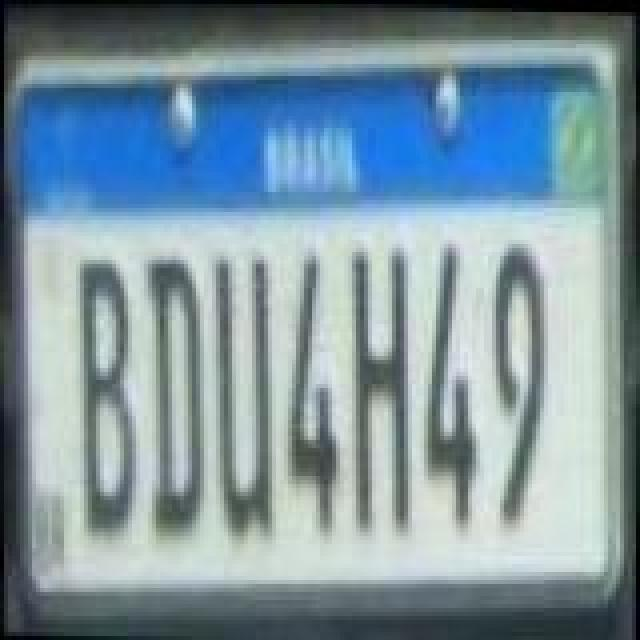4: (416, 240, 484, 536), (276, 246, 344, 530)
9: (480, 240, 556, 532)
B: (76, 252, 144, 536)
D: (138, 252, 210, 540)
H: (344, 242, 420, 538)
U: (210, 252, 282, 548)
